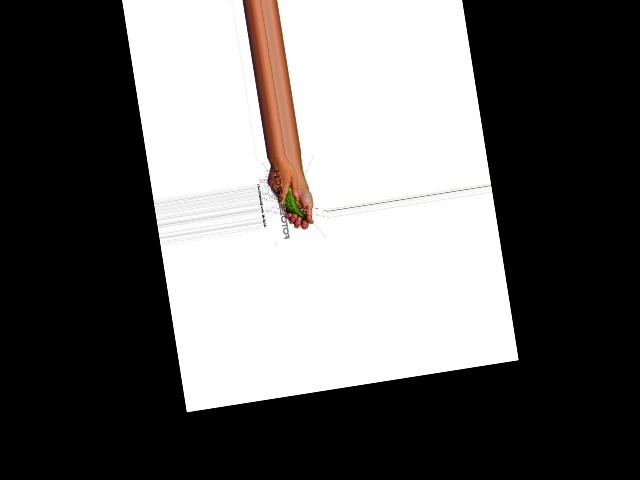cucumber: (281, 182, 307, 224)
